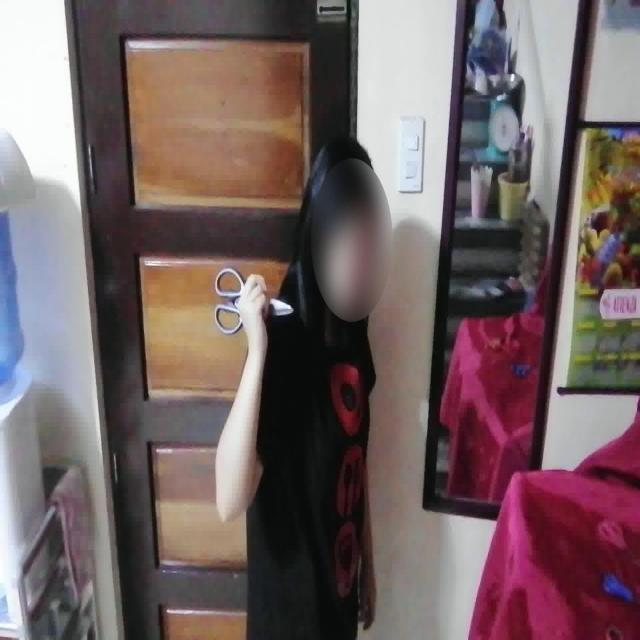scissor: (214, 266, 295, 337)
